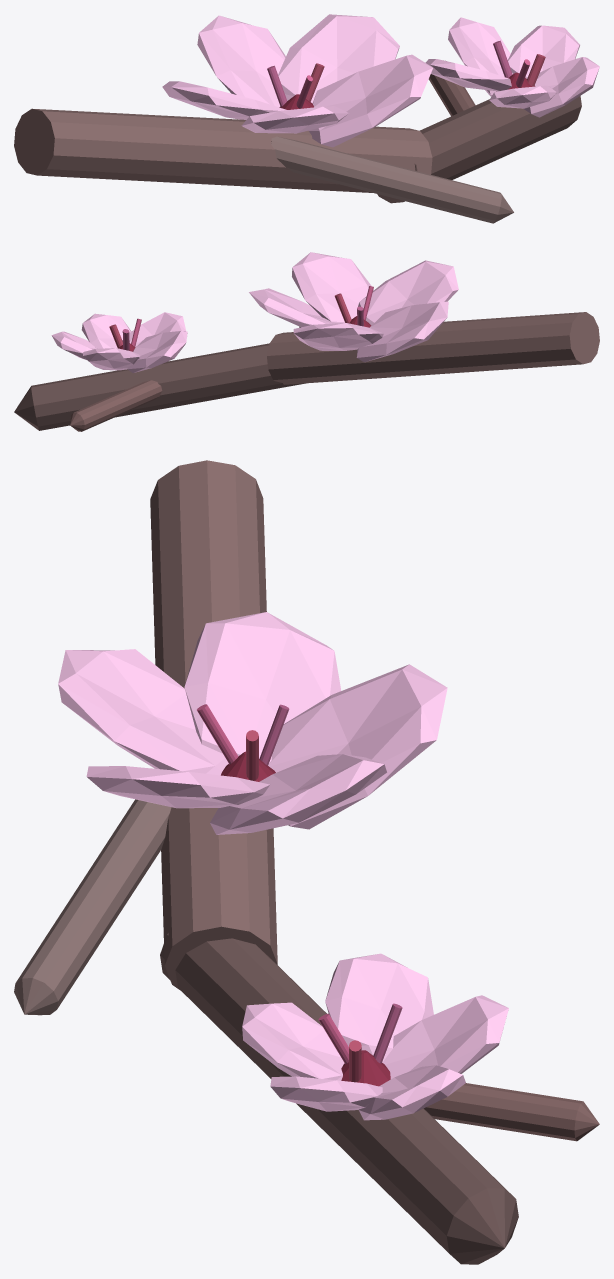
The model's file is alee3.dae.
The picture shows the model from 3 angles, top to bottom: view 1: azimuth 30°, elevation 25°; view 2: azimuth 150°, elevation 25°; view 3: azimuth 270°, elevation 25°; orthographic projection. The views are drawn at different scales.
Parts seen in each view (by area): view 1: Cylinder1-S3D-13, Cylinder4-S3D-16, Cylinder2-S3D-14, Cube-S3D-31-FLIPPED, Cube-S3D-29-FLIPPED, Cube-S3D-18-FLIPPED, Cube-S3D-22-FLIPPED, Cube-S3D-28-FLIPPED, Cube-S3D-20-FLIPPED, Cube-S3D-27-FLIPPED, Cube-S3D-30-FLIPPED, Cube-S3D-19-FLIPPED (+6 smaller); view 2: Cylinder1-S3D-13, Cylinder2-S3D-14, Cube-S3D-31-FLIPPED, Cube-S3D-30-FLIPPED, Cube-S3D-28-FLIPPED, Cylinder3-S3D-15, Cube-S3D-18-FLIPPED, Cube-S3D-29-FLIPPED, Cube-S3D-19-FLIPPED, Cube-S3D-22-FLIPPED, Cube-S3D-27-FLIPPED, Cube-S3D-21-FLIPPED (+1 smaller); view 3: Cylinder1-S3D-13, Cylinder2-S3D-14, Cube-S3D-28-FLIPPED, Cube-S3D-18-FLIPPED, Cube-S3D-30-FLIPPED, Cylinder4-S3D-16, Cube-S3D-29-FLIPPED, Cube-S3D-19-FLIPPED, Cube-S3D-27-FLIPPED, Cylinder3-S3D-15, Cube-S3D-21-FLIPPED, Cube-S3D-31-FLIPPED (+2 smaller).
Part boxes in pixels (bbox=[...]): Cylinder1-S3D-13: bbox=[14, 108, 432, 192]; Cylinder4-S3D-16: bbox=[271, 136, 513, 223]; Cylinder2-S3D-14: bbox=[377, 96, 581, 203]; Cube-S3D-31-FLIPPED: bbox=[309, 54, 432, 147]; Cube-S3D-29-FLIPPED: bbox=[278, 14, 399, 103]; Cube-S3D-18-FLIPPED: bbox=[197, 15, 285, 107]; Cube-S3D-22-FLIPPED: bbox=[523, 57, 599, 117]; Cube-S3D-28-FLIPPED: bbox=[162, 81, 286, 119]; Cube-S3D-20-FLIPPED: bbox=[507, 25, 579, 78]; Cube-S3D-27-FLIPPED: bbox=[448, 17, 512, 96]; Cube-S3D-30-FLIPPED: bbox=[241, 106, 348, 133]; Cube-S3D-19-FLIPPED: bbox=[425, 59, 511, 91]; Cylinder1-S3D-13: bbox=[267, 312, 599, 384]; Cylinder2-S3D-14: bbox=[14, 343, 305, 430]; Cube-S3D-31-FLIPPED: bbox=[292, 252, 373, 323]; Cube-S3D-30-FLIPPED: bbox=[358, 260, 458, 325]; Cube-S3D-28-FLIPPED: bbox=[356, 301, 448, 362]; Cylinder3-S3D-15: bbox=[70, 380, 162, 431]; Cube-S3D-18-FLIPPED: bbox=[293, 323, 383, 350]; Cube-S3D-29-FLIPPED: bbox=[249, 288, 337, 327]; Cube-S3D-19-FLIPPED: bbox=[127, 331, 187, 372]; Cube-S3D-22-FLIPPED: bbox=[81, 313, 131, 348]; Cube-S3D-27-FLIPPED: bbox=[83, 348, 140, 370]; Cube-S3D-21-FLIPPED: bbox=[122, 312, 185, 346]; Cylinder1-S3D-13: bbox=[150, 460, 277, 990]; Cylinder2-S3D-14: bbox=[160, 933, 518, 1264]; Cube-S3D-28-FLIPPED: bbox=[184, 612, 341, 764]; Cube-S3D-18-FLIPPED: bbox=[268, 664, 447, 829]; Cube-S3D-30-FLIPPED: bbox=[58, 649, 228, 775]; Cylinder4-S3D-16: bbox=[14, 799, 171, 1015]; Cube-S3D-29-FLIPPED: bbox=[210, 754, 386, 834]; Cube-S3D-19-FLIPPED: bbox=[325, 953, 433, 1062]; Cube-S3D-27-FLIPPED: bbox=[382, 995, 508, 1078]; Cylinder3-S3D-15: bbox=[424, 1083, 599, 1141]; Cube-S3D-21-FLIPPED: bbox=[242, 1002, 344, 1080]; Cube-S3D-31-FLIPPED: bbox=[86, 766, 269, 808].
Size of the model in its own units: 2.98 by 1.02 by 1.54.
